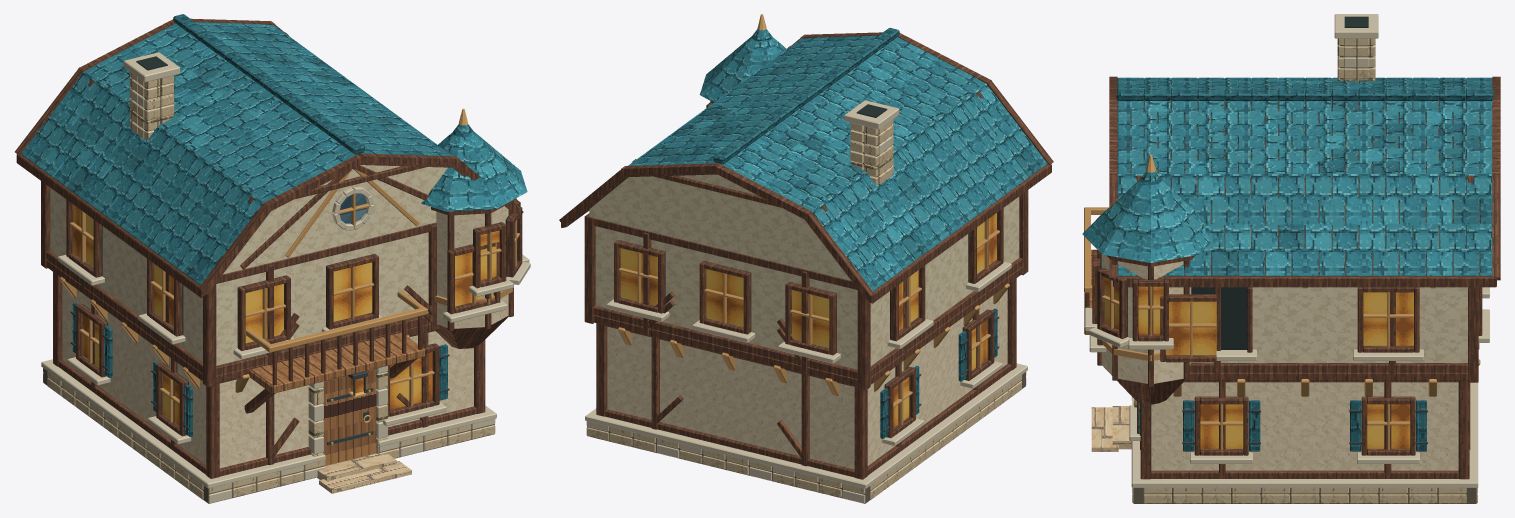
3 views of the same model, side by side, from view 1: azimuth 30°, elevation 25°; view 2: azimuth 150°, elevation 25°; view 3: azimuth 270°, elevation 25° (orthographic). The views are drawn at different scales.
Parts seen in each view (by area): view 1: Roof__roof_teal, Timber__timber, Walls__cream, Walls__plaster_warm, Windows__timber, Roof__roof_teal_hi, Complete gambrel gable, Masonry__stone, Windows__glow, Roof__roof_teal_dark, Masonry__stone_edge, Balcony__oak (+31 smaller); view 2: Roof__roof_teal, Walls__plaster_warm, Timber__timber, Walls__cream, Complete gambrel gable.001, Windows__timber, Masonry__stone, Roof__roof_teal_hi, Masonry__stone_edge, Windows__glow, Roof__roof_teal_dark, Windows__stone_edge (+14 smaller); view 3: Roof__roof_teal, Walls__plaster_warm, Timber__timber, Roof__roof_teal_hi, Walls__cream, Roof__roof_teal_dark, Masonry__stone, Masonry__stone_edge, Windows__glow, Windows__timber, Oriel_Windows__roof_teal_hi, Roof__timber (+22 smaller).
Part boxes in pixels (<box>): Roof__roof_teal: <box>21,22,452,285</box>; Timber__timber: <box>41,181,485,478</box>; Walls__cream: <box>50,188,428,365</box>; Walls__plaster_warm: <box>62,283,473,468</box>; Windows__timber: <box>66,165,439,436</box>; Roof__roof_teal_hi: <box>40,23,420,222</box>; Complete gambrel gable: <box>223,165,447,274</box>; Masonry__stone: <box>43,71,495,499</box>; Windows__glow: <box>73,204,432,425</box>; Roof__roof_teal_dark: <box>66,14,421,281</box>; Masonry__stone_edge: <box>41,52,496,503</box>; Balcony__oak: <box>249,332,425,393</box>; Roof__roof_teal: <box>628,35,1047,291</box>; Walls__plaster_warm: <box>607,289,1007,469</box>; Timber__timber: <box>584,190,1028,479</box>; Walls__cream: <box>595,196,1019,369</box>; Complete gambrel gable.001: <box>589,174,851,280</box>; Windows__timber: <box>614,208,1003,438</box>; Masonry__stone: <box>586,119,1026,499</box>; Roof__roof_teal_hi: <box>629,43,1000,278</box>; Masonry__stone_edge: <box>585,100,1027,503</box>; Windows__glow: <box>620,213,996,427</box>; Roof__roof_teal_dark: <box>655,28,1041,259</box>; Windows__stone_edge: <box>606,261,1011,445</box>; Roof__roof_teal: <box>1117,77,1492,275</box>; Walls__plaster_warm: <box>1151,382,1458,470</box>; Timber__timber: <box>1140,287,1479,479</box>; Roof__roof_teal_hi: <box>1117,77,1492,275</box>; Walls__cream: <box>1191,287,1467,362</box>; Roof__roof_teal_dark: <box>1116,78,1493,275</box>; Masonry__stone: <box>1132,38,1477,503</box>; Masonry__stone_edge: <box>1131,14,1478,492</box>; Windows__glow: <box>1200,292,1413,448</box>; Windows__timber: <box>1137,287,1482,455</box>; Oriel_Windows__roof_teal_hi: <box>1082,180,1210,262</box>; Roof__timber: <box>1113,272,1496,287</box>.
Size of the model in its own units: 8.24 by 8.16 by 8.53.
Materials: 17 (11 with a texture image).
